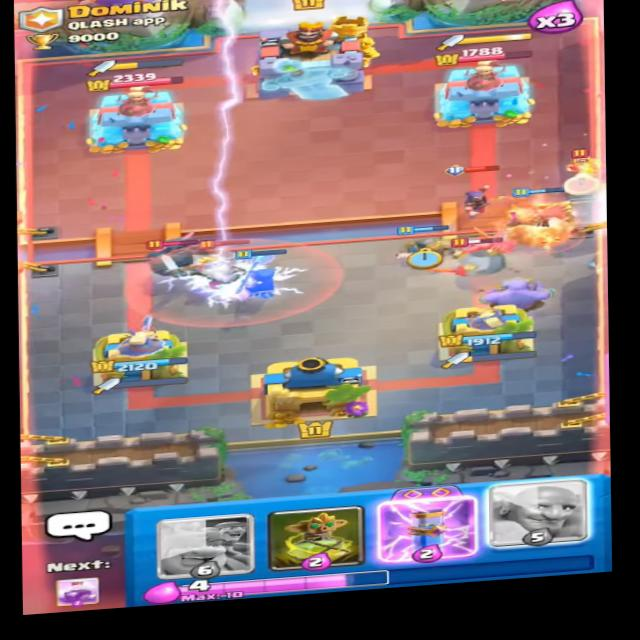evo-wizard: (437, 164, 508, 213)
pekka: (133, 228, 215, 284), (435, 232, 521, 284)
royal-ghost: (173, 237, 252, 300)
wizard: (549, 142, 614, 191)
zap: (194, 0, 255, 261), (170, 247, 291, 309)
